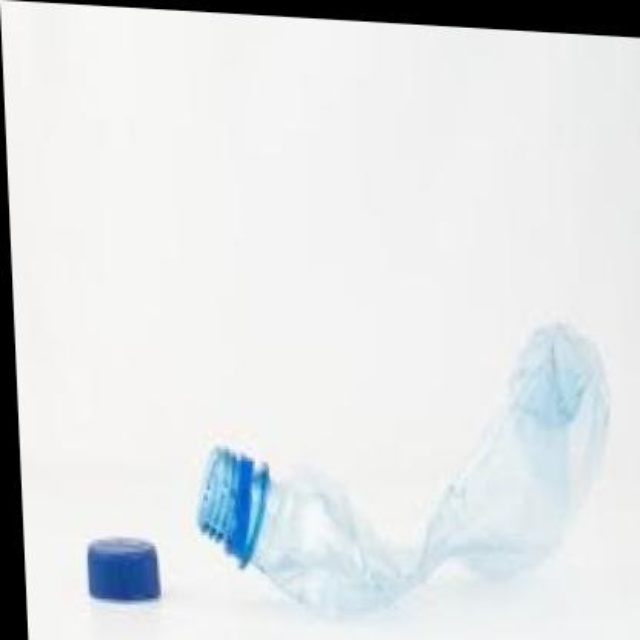trash: (198, 322, 608, 611), (88, 538, 158, 598)
